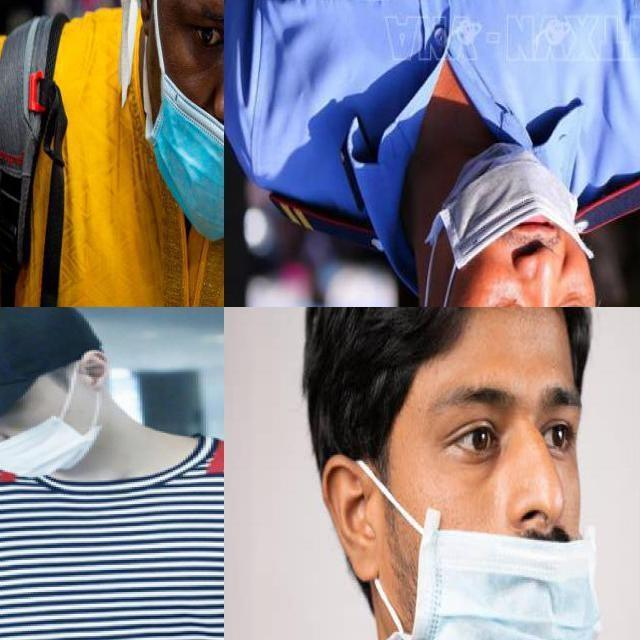hairnet: (403, 462, 590, 639), (447, 140, 601, 292), (155, 60, 223, 228), (0, 416, 100, 475)
